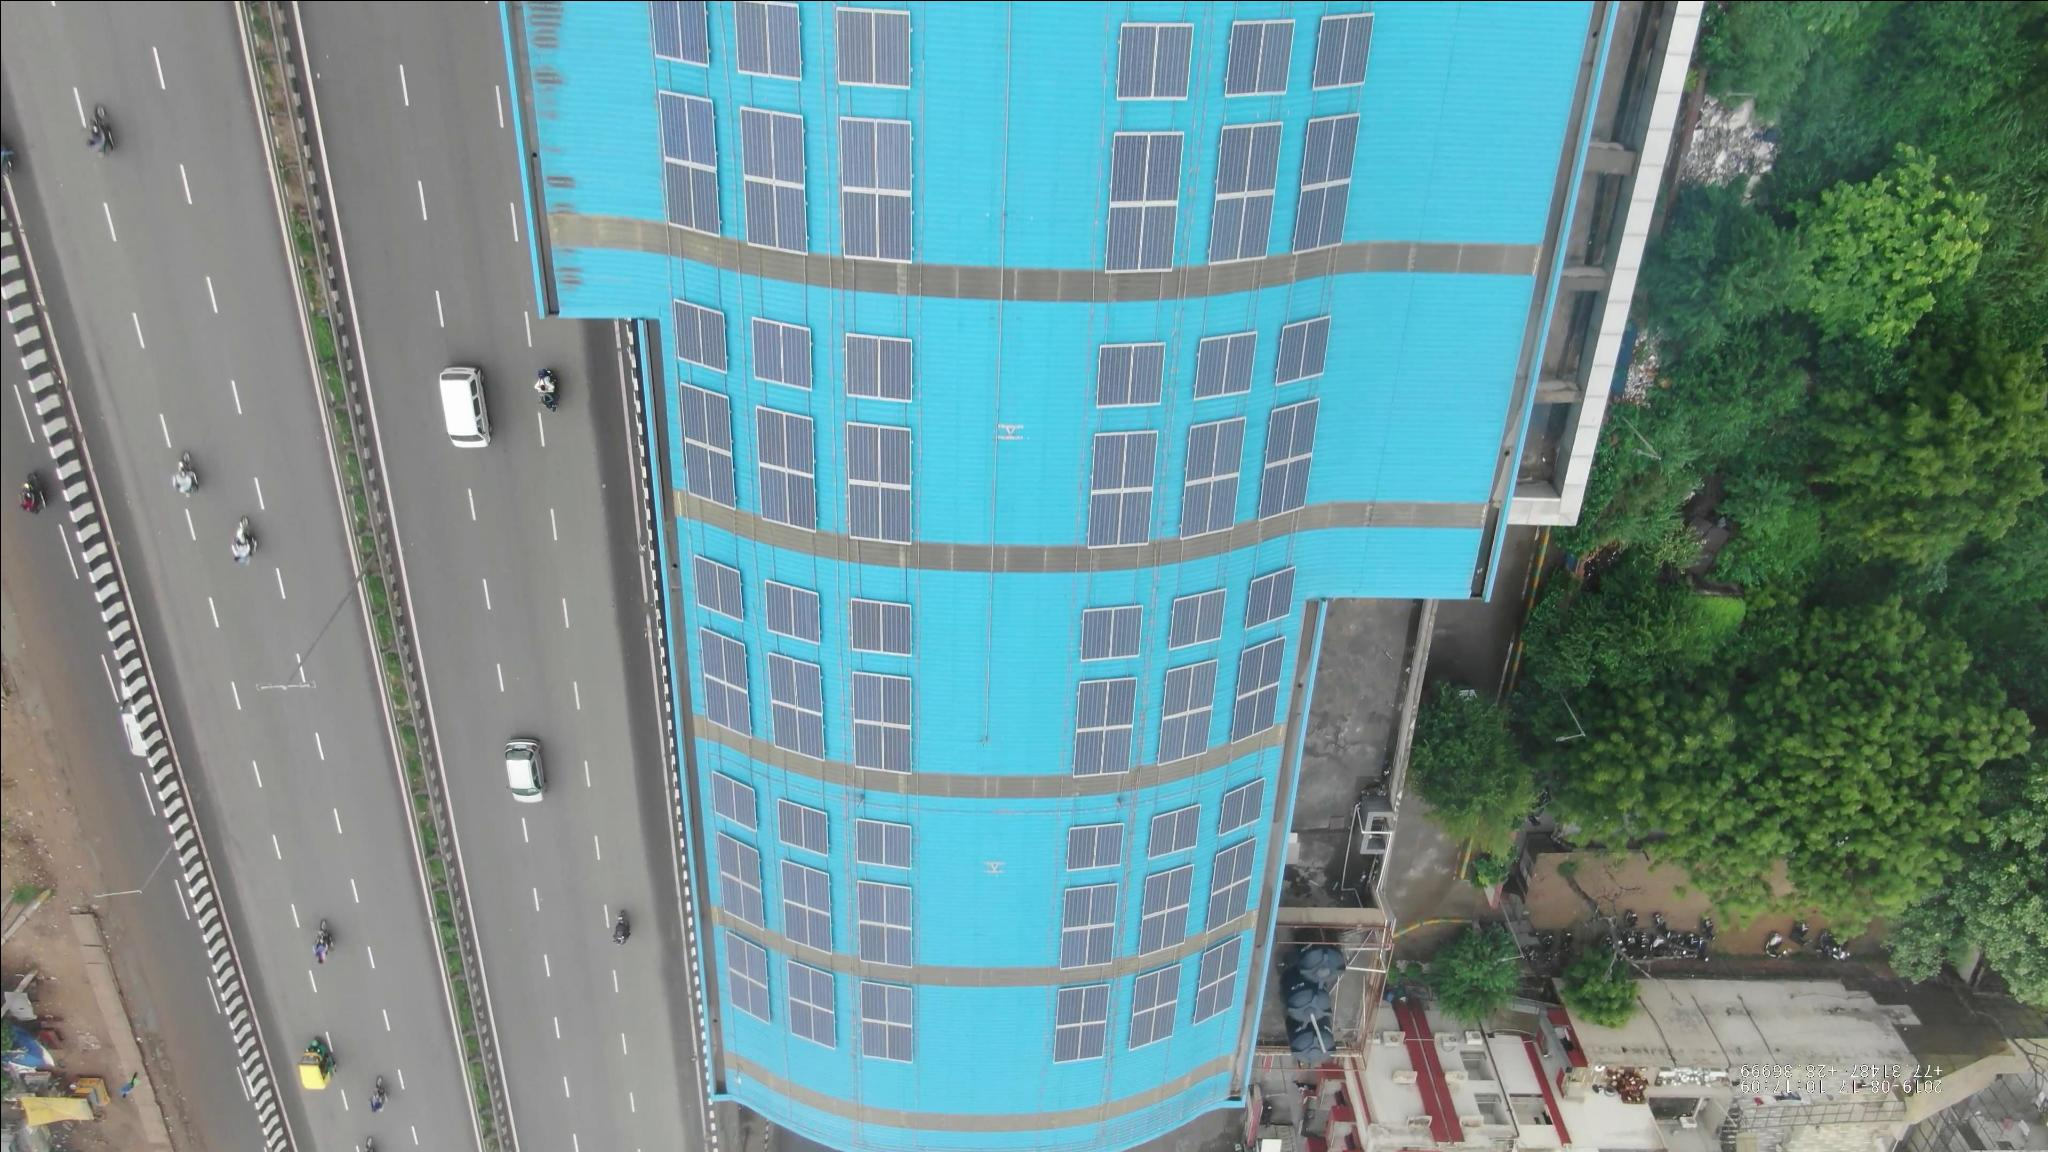Muddy_road: (15, 767, 108, 903)
